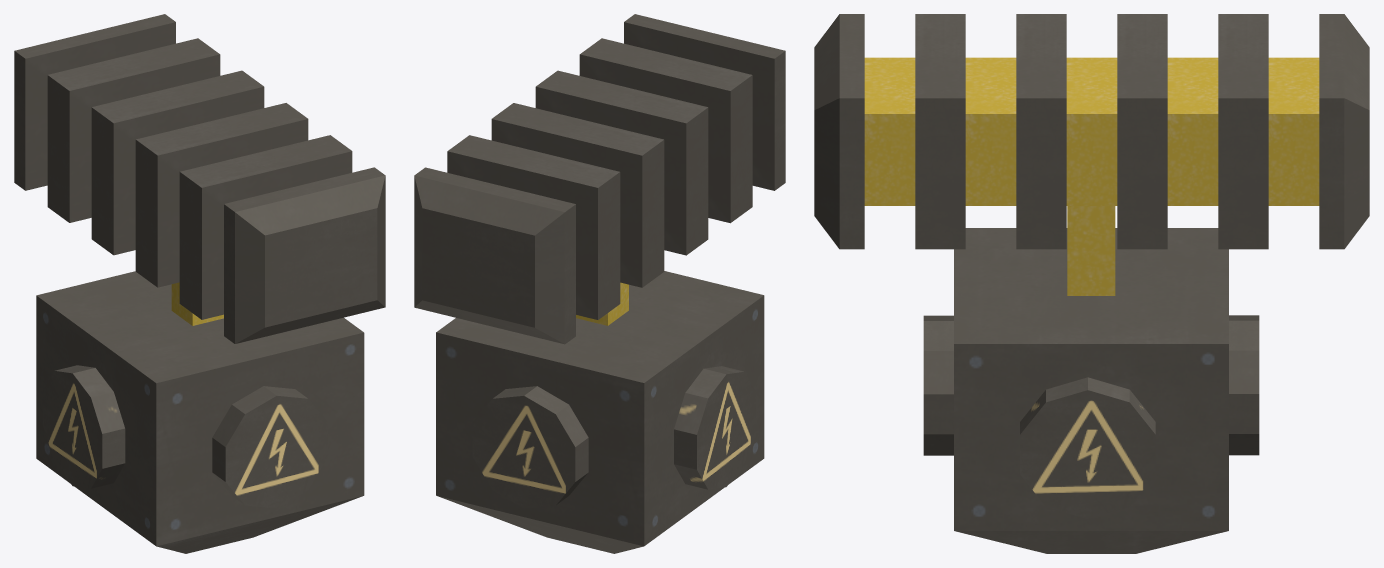
Rendered from Fence Generator.fbx.
The picture shows the model from 3 angles, left to right: view 1: azimuth 30°, elevation 25°; view 2: azimuth 150°, elevation 25°; view 3: azimuth 270°, elevation 25°; orthographic projection. The views are drawn at different scales.
Visible parts, largest first — view 1: polySurface17; view 2: polySurface17; view 3: polySurface17.
Boxes of the visible parts, box(x1,y1,x2,y2) form: polySurface17: box(14, 14, 385, 553); polySurface17: box(414, 14, 785, 553); polySurface17: box(814, 14, 1369, 553).
Bounding box in the file's own units: 4.71 × 7.42 × 7.8.
1 material, 1 textured.
